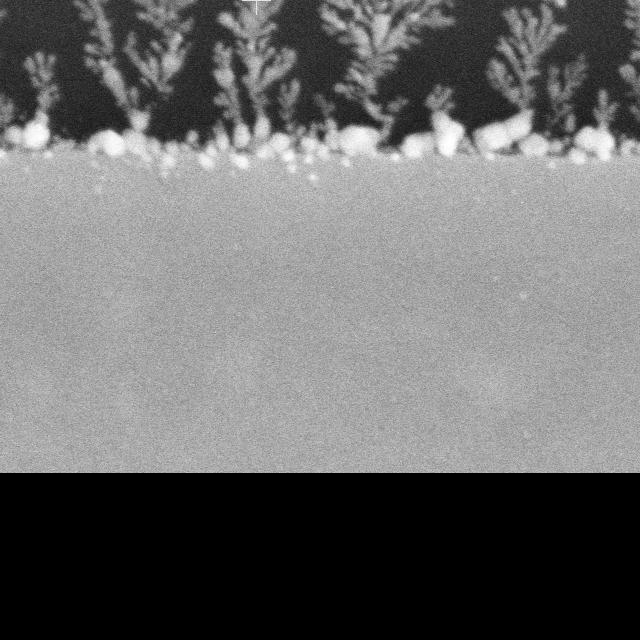Dendrite: (487, 0, 584, 125), (214, 0, 296, 135), (475, 111, 616, 163), (89, 125, 231, 167), (400, 84, 475, 158), (226, 125, 383, 158), (21, 51, 60, 150), (577, 89, 617, 158), (88, 129, 151, 159), (620, 65, 640, 154), (279, 78, 300, 131), (313, 94, 333, 131)
